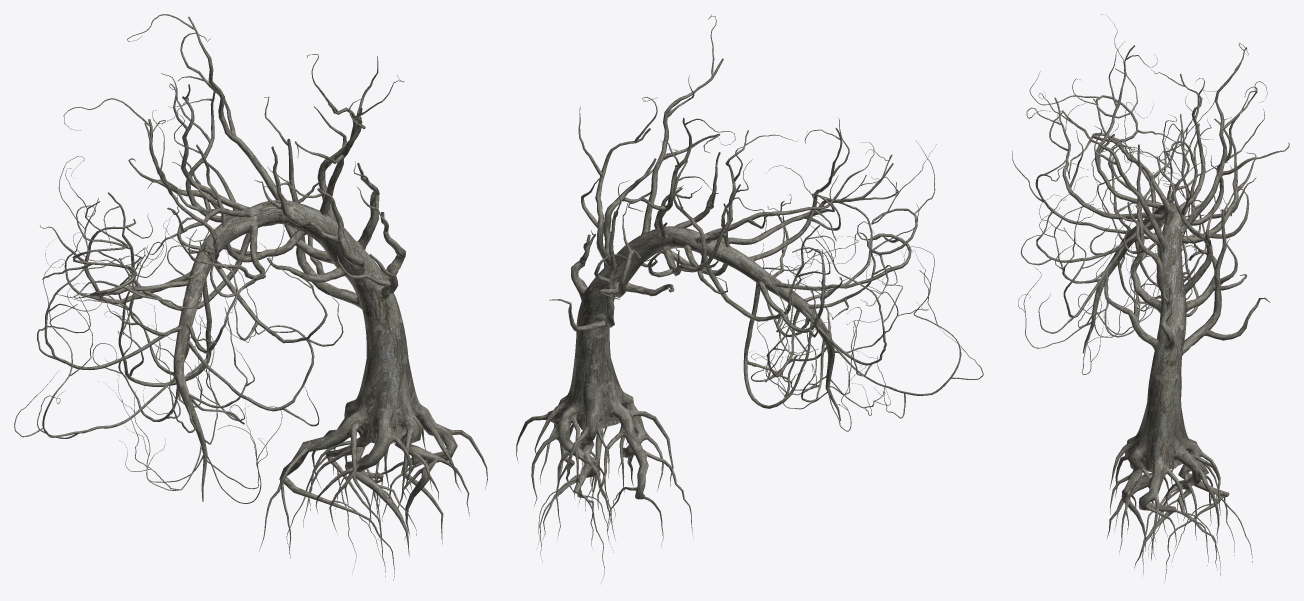
Rendered from Arbol4.fbx.
The picture shows the model from 3 angles, left to right: view 1: azimuth 30°, elevation 25°; view 2: azimuth 150°, elevation 25°; view 3: azimuth 270°, elevation 25°; orthographic projection. The views are drawn at different scales.
Parts seen in each view (by area): view 1: Arbol4; view 2: Arbol4; view 3: Arbol4.
Part boxes in pixels (<box>): Arbol4: <box>14,14,487,580</box>; Arbol4: <box>516,14,983,582</box>; Arbol4: <box>1012,14,1289,582</box>.
Size of the model in its own units: 7.22 by 7.91 by 4.21.
